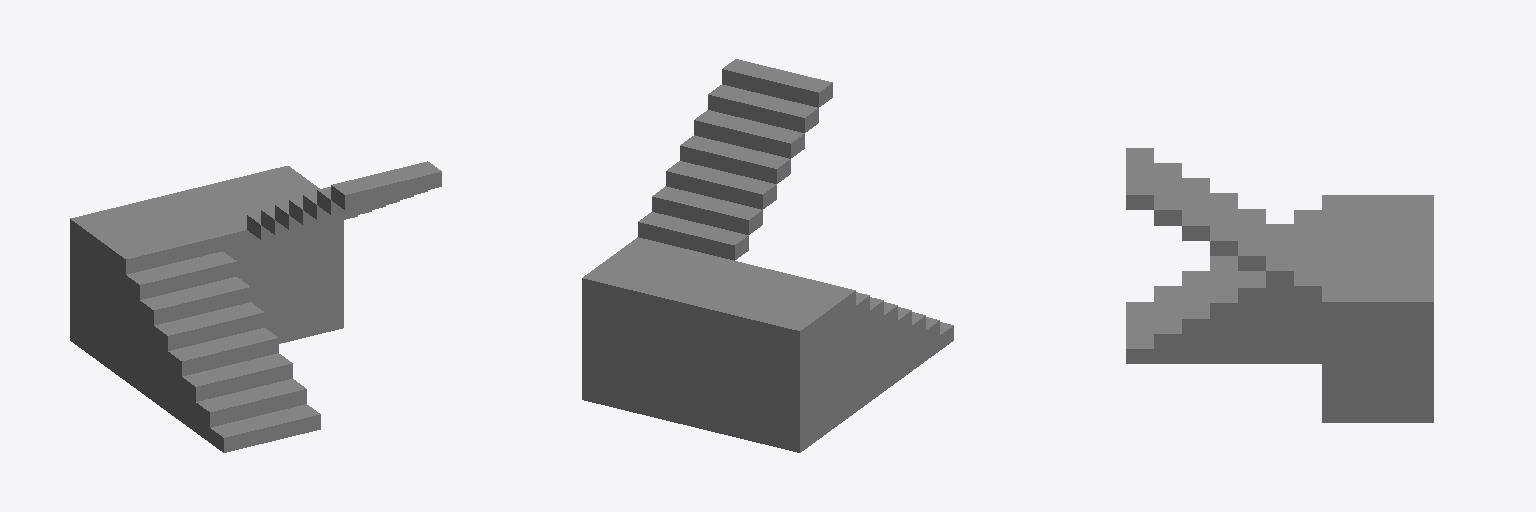
The model's file is stair.obj.
3 views of the same model, side by side, from view 1: azimuth 30°, elevation 25°; view 2: azimuth 150°, elevation 25°; view 3: azimuth 270°, elevation 25° (orthographic).
Visible parts, largest first — view 1: Rectangle018, Rectangle017, Rectangle016, Rectangle015, Rectangle014, Rectangle013, Rectangle012, Rectangle024, Rectangle011, Rectangle020, Rectangle021, Rectangle023 (+3 smaller); view 2: Rectangle018, Rectangle019, Rectangle022, Rectangle020, Rectangle021, Rectangle024, Rectangle025, Rectangle023, Rectangle017, Rectangle016, Rectangle015, Rectangle014 (+1 smaller); view 3: Rectangle018, Rectangle014, Rectangle013, Rectangle015, Rectangle017, Rectangle012, Rectangle016, Rectangle019, Rectangle020, Rectangle021, Rectangle025, Rectangle011 (+3 smaller).
Part boxes in pixels (bbox=[...]): Rectangle018: bbox=[70, 166, 343, 380]; Rectangle017: bbox=[126, 251, 236, 390]; Rectangle016: bbox=[140, 277, 250, 401]; Rectangle015: bbox=[154, 302, 264, 411]; Rectangle014: bbox=[168, 328, 278, 421]; Rectangle013: bbox=[182, 353, 292, 431]; Rectangle012: bbox=[196, 379, 306, 442]; Rectangle024: bbox=[331, 161, 441, 209]; Rectangle011: bbox=[210, 404, 320, 452]; Rectangle020: bbox=[303, 192, 413, 219]; Rectangle021: bbox=[289, 197, 399, 224]; Rectangle023: bbox=[261, 207, 371, 234]; Rectangle018: bbox=[582, 237, 855, 452]; Rectangle019: bbox=[708, 84, 818, 132]; Rectangle022: bbox=[666, 161, 776, 209]; Rectangle020: bbox=[694, 110, 804, 158]; Rectangle021: bbox=[680, 135, 790, 183]; Rectangle024: bbox=[722, 59, 832, 107]; Rectangle025: bbox=[638, 212, 748, 260]; Rectangle023: bbox=[652, 186, 762, 234]; Rectangle017: bbox=[856, 292, 869, 411]; Rectangle016: bbox=[870, 297, 883, 401]; Rectangle015: bbox=[884, 302, 897, 390]; Rectangle014: bbox=[898, 307, 911, 380]; Rectangle018: bbox=[1322, 195, 1433, 422]; Rectangle014: bbox=[1210, 256, 1237, 363]; Rectangle013: bbox=[1182, 271, 1209, 363]; Rectangle015: bbox=[1238, 271, 1265, 363]; Rectangle017: bbox=[1294, 210, 1321, 363]; Rectangle012: bbox=[1154, 286, 1181, 363]; Rectangle016: bbox=[1266, 286, 1293, 363]; Rectangle019: bbox=[1154, 163, 1181, 225]; Rectangle020: bbox=[1182, 178, 1209, 240]; Rectangle021: bbox=[1210, 193, 1237, 255]; Rectangle025: bbox=[1294, 239, 1321, 301]; Rectangle011: bbox=[1126, 302, 1153, 363].
Size of the model in its own units: 108 by 108 by 132.